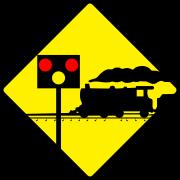Barrier Ahead: (15, 14, 174, 169)
